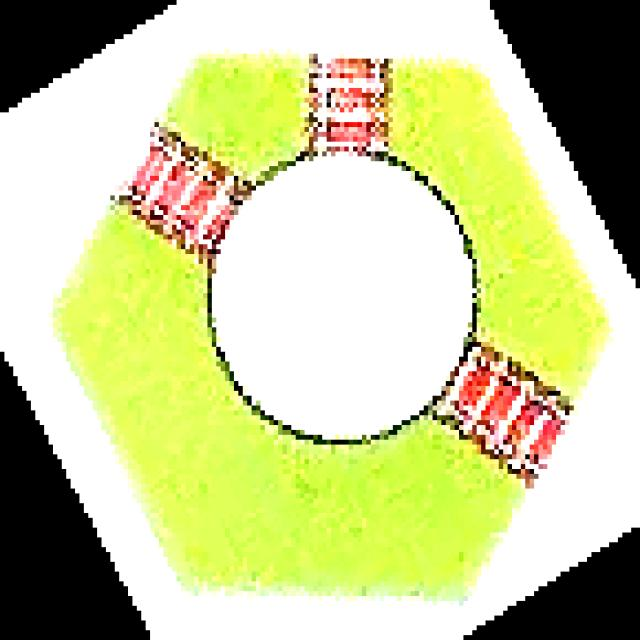10_5: (53, 49, 604, 606)
